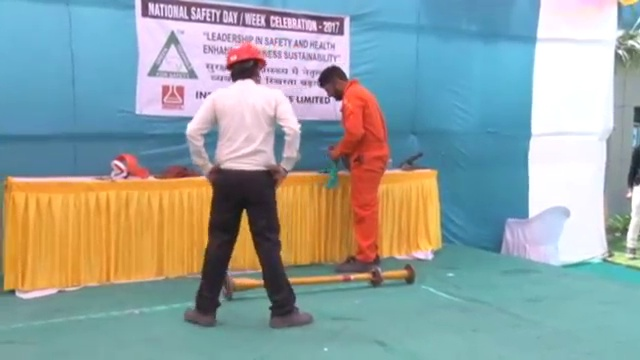helmet: (225, 41, 268, 71)
helmet_off: (318, 64, 350, 100)
helmet_on: (223, 41, 269, 81)
person: (184, 41, 316, 330), (315, 62, 391, 275), (627, 143, 640, 264)
